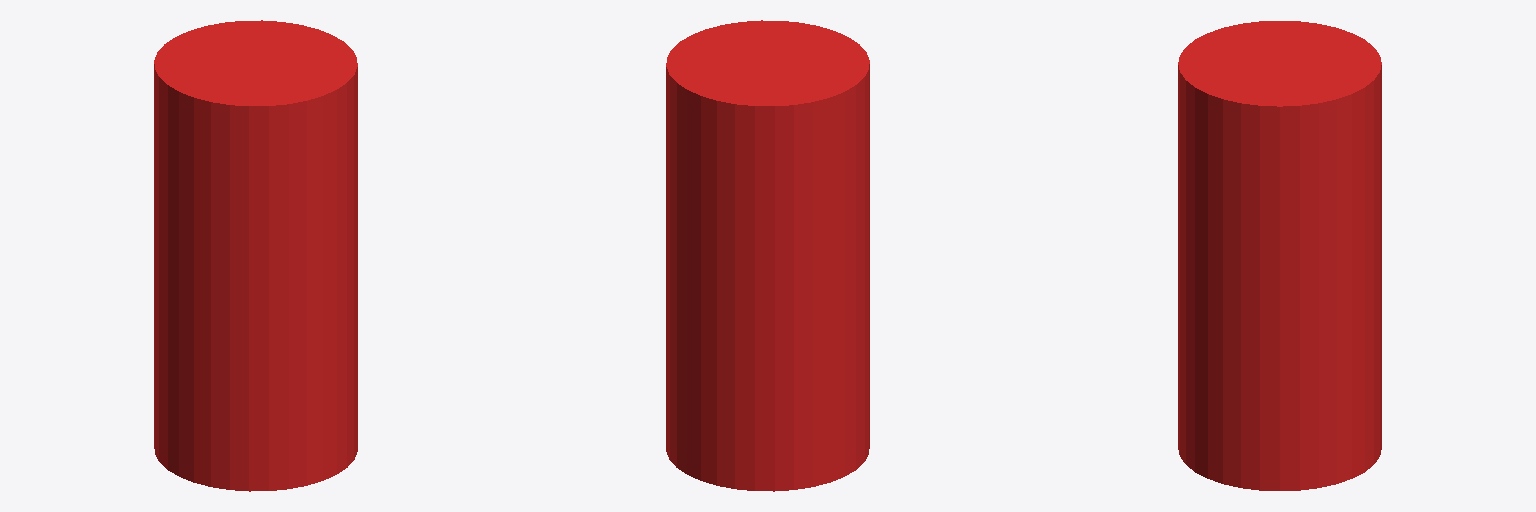
URDF robot description (bottle):
<?xml version="1.0" ?>
<robot name="bottle">
    <link name="base_link">
        <inertial>
            <origin xyz="0 0 0.0" rpy="0 -0 0" />
            <mass value="1" />
            <inertia ixx="0.1" iyy="0.1" izz="0.1" ixy="0" ixz="0" iyz="0" />
        </inertial>
    </link>
    <link name="link0">
        <inertial>
            <origin xyz="0 0 0.14" rpy="0 -0 0" />
            <mass value="4" />
            <inertia ixx="0.4" iyy="0.4" izz="0.4" ixy="0" ixz="0" iyz="0" />
        </inertial>
    </link>
    <link name="link1">
        <inertial>
            <origin xyz="0 0 -0.4" rpy="0 -0 0" />
            <mass value="1" />
            <inertia ixx="0.1" iyy="0.1" izz="0.1" ixy="0" ixz="0" iyz="0" />
        </inertial>
        <visual>
            <origin xyz="0 0 -0.4" rpy="0 -0 0" />
            <geometry>
                <cylinder radius="0.06" length="0.25"/>
            </geometry>
            <material name="material_bottle">
                <color rgba="0.9 0.2 0.2 1.0" />
            </material>
        </visual>
        <collision>
            <origin xyz="0 0 -0.4" rpy="0 -0 0" />
            <geometry>
                <cylinder radius="0.06" length="0.25"/>
            </geometry>
        </collision>
    </link>

    <joint name="j0" type="revolute">
        <parent link="base_link" />
        <child link="link0" />
        <origin xyz="0.000000 0.000000 0.0" rpy="0.000000 0.000000 0.000000" />
        <axis xyz="1 0 0" />
        <!-- <limit lower="-2.967" upper="2.967" effort="176" velocity="1.7104" /> -->
        <limit lower="-2.967" upper="2.967" effort="176" velocity="0" />
    </joint>
    <joint name="j1" type="revolute">
        <parent link="link0" />
        <child link="link1" />
        <origin xyz="0.000000 0.000000 0.0" rpy="0.000000 0.000000 0.000000" />
        <axis xyz="0 1 0" />
        <!-- <limit lower="-2.0944" upper="2.0944" effort="176" velocity="1.7104" /> -->
        <limit lower="-2.0944" upper="2.0944" effort="176" velocity="0" />
    </joint>
</robot>

--- What the picture shows (computed from the rendered views, not written in the file) ---
The picture shows the robot from 3 angles, left to right: view 1: azimuth 30°, elevation 25°; view 2: azimuth 150°, elevation 25°; view 3: azimuth 270°, elevation 25°; orthographic projection.
Model bottle with 3 links and 2 joints (2 revolute), rooted at base_link, posed every joint at zero.
Links seen in each view (by area): view 1: link1; view 2: link1; view 3: link1.
Boxes of the visible links, box(x1,y1,x2,y2) form: link1: box(154, 20, 357, 491); link1: box(666, 20, 869, 491); link1: box(1178, 21, 1381, 490).
Size in the robot's own frame: 0.12 by 0.12 by 0.25 metres.
Geometry: primitives only (box / cylinder / sphere), no mesh files.